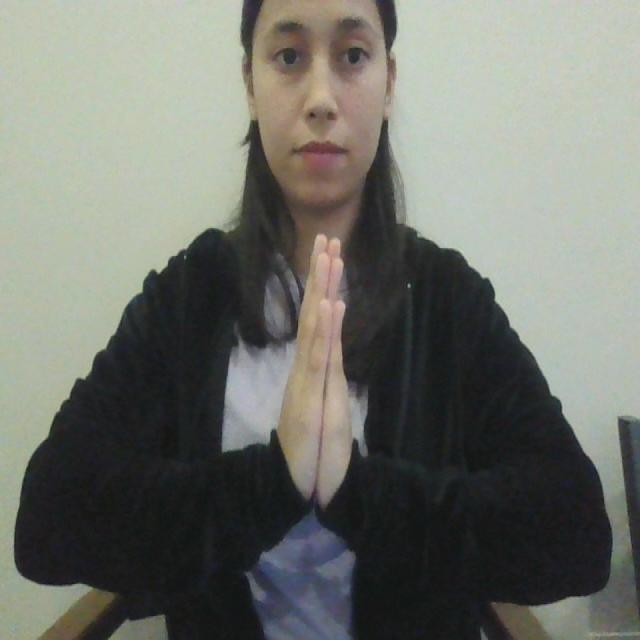Ozur-Dilemek: (273, 221, 360, 515)
